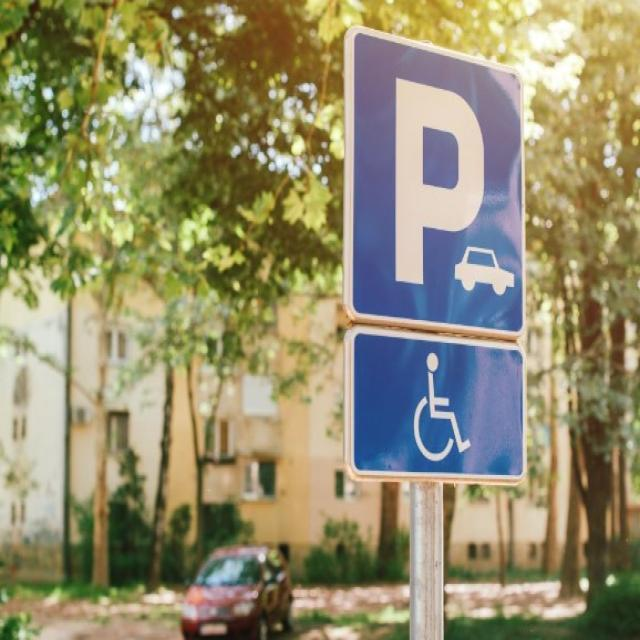symbol_of_access: (343, 326, 529, 488)
